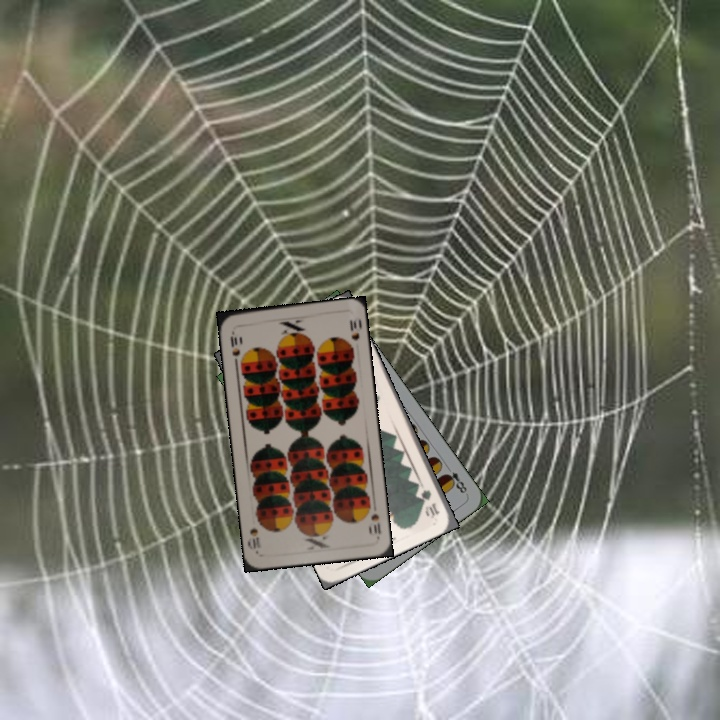E8: (441, 461, 470, 497)
G10: (417, 485, 443, 521)
S10: (364, 501, 383, 541), (226, 327, 243, 358)
